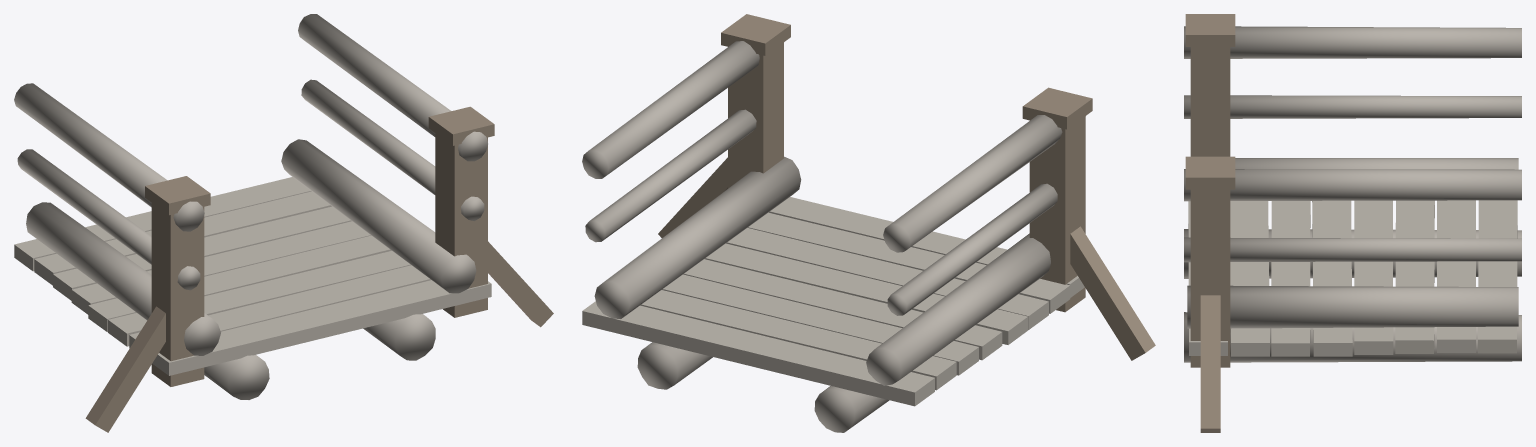
Rendered from bridge-deck-2.glb.
3 renders of one model, left to right at view 1: azimuth 30°, elevation 25°; view 2: azimuth 150°, elevation 25°; view 3: azimuth 270°, elevation 25°, orthographic. The views are drawn at different scales.
Visible parts, largest first — view 1: bridge-deck-2.0; view 2: bridge-deck-2.0; view 3: bridge-deck-2.0.
Boxes of the visible parts, x1,y1,x2,y2 form: bridge-deck-2.0: (14,14,553,432); bridge-deck-2.0: (582,14,1155,432); bridge-deck-2.0: (1184,14,1521,432).
Bounding box in the file's own units: 3.3 × 1.52 × 2.04.
